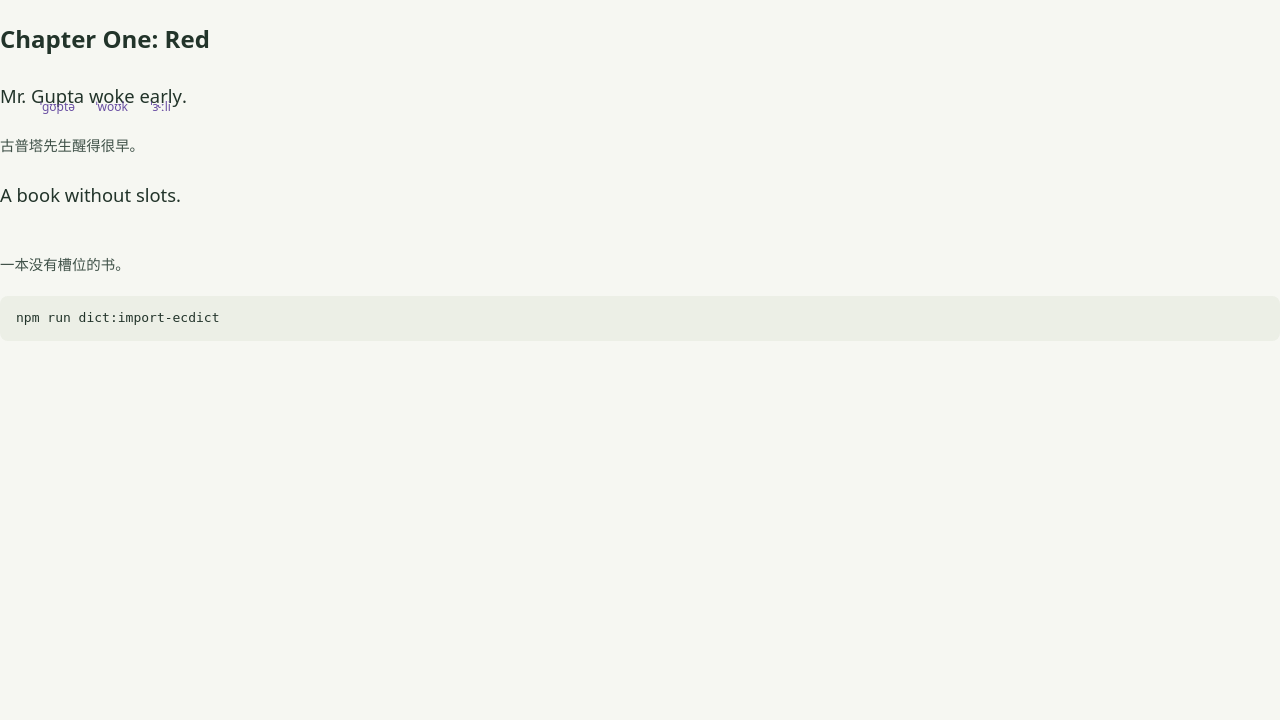
it: clicking a word opens the popup and fetches that word
Click the button "woke". click: (112, 96)
box: [89,83,135,108]
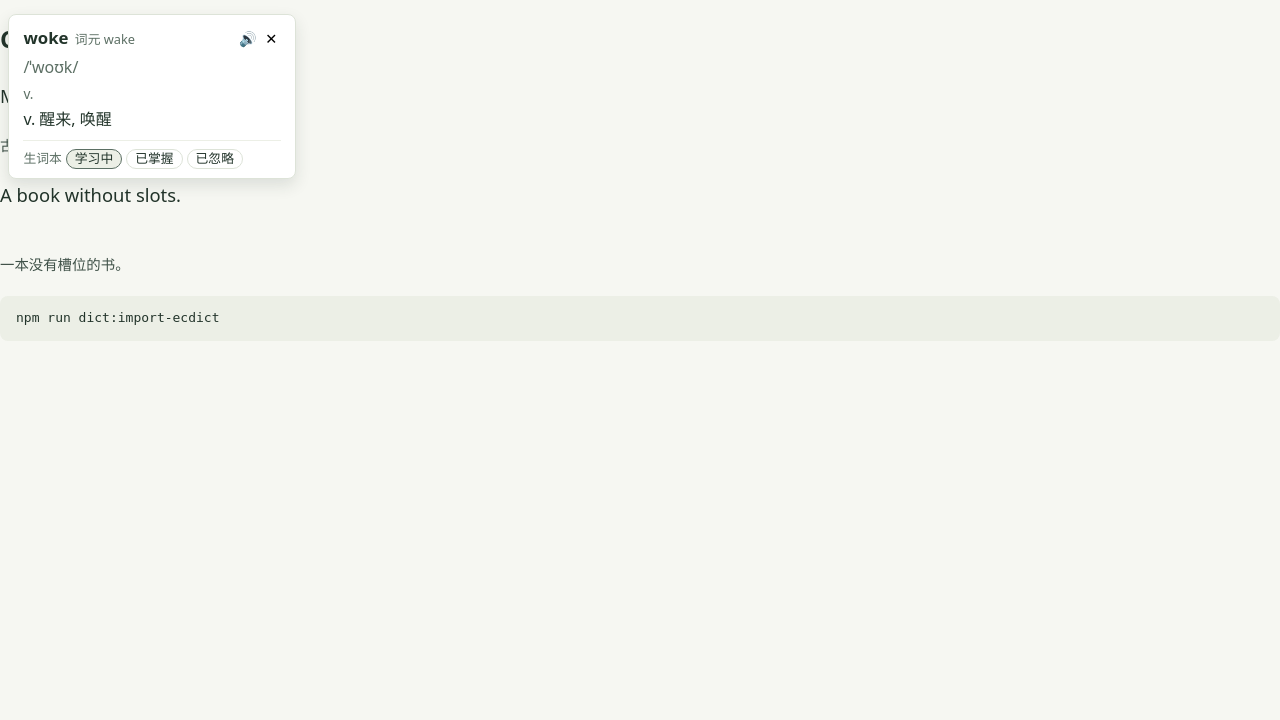
Expected: the text "/ˈwoʊk/" is shown, [23,56,78,78]
Expected: the dialog named "词详情：woke" is shown, [8,14,296,179]
